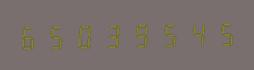five: (152, 19, 178, 49), (206, 18, 232, 48), (44, 21, 70, 50)
four: (179, 19, 205, 48)
nine: (125, 20, 151, 49)
six: (17, 21, 43, 51)
three: (98, 20, 124, 50)
zero: (71, 20, 97, 50)
